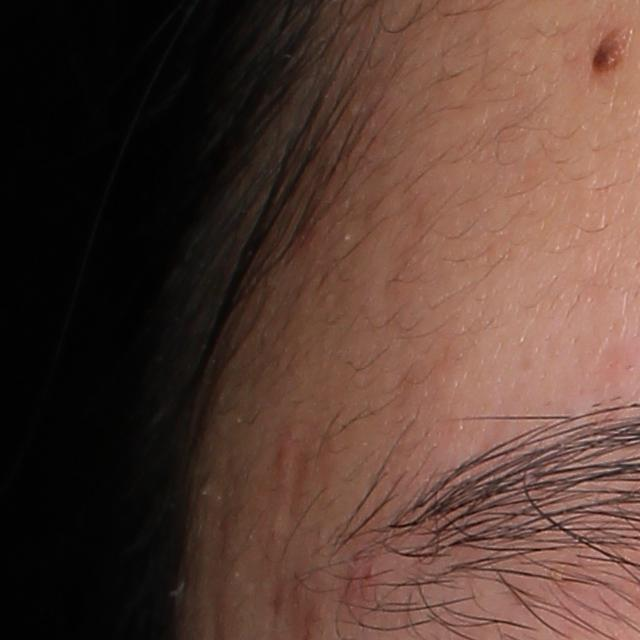nevus: (585, 24, 634, 80)
